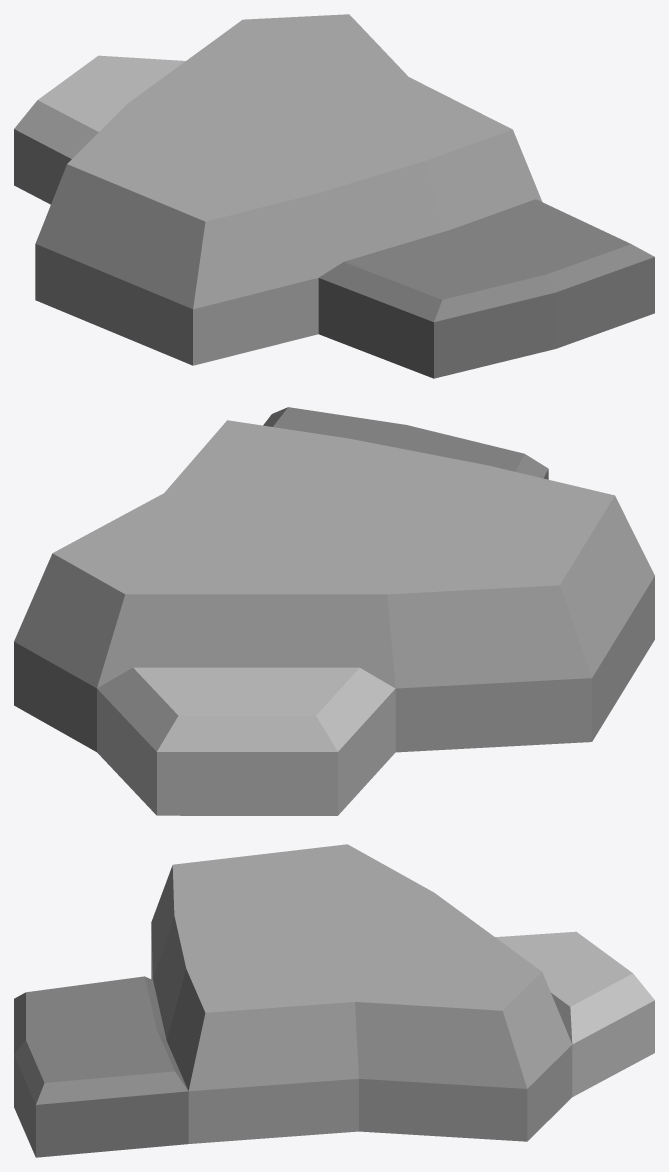
The model's file is rock-type4-03-grey.glb.
3 renders of one model, top to bottom at view 1: azimuth 30°, elevation 25°; view 2: azimuth 150°, elevation 25°; view 3: azimuth 270°, elevation 25°, orthographic. The views are drawn at different scales.
Parts seen in each view (by area): view 1: Rock_Type4_03_mesh; view 2: Rock_Type4_03_mesh; view 3: Rock_Type4_03_mesh.
Part boxes in pixels (<box>): Rock_Type4_03_mesh: <box>14,14,654,378</box>; Rock_Type4_03_mesh: <box>14,407,654,815</box>; Rock_Type4_03_mesh: <box>14,844,654,1157</box>.
Bounding box in the file's own units: 1.52 × 0.4176 × 2.
Materials: 1 (1 with a texture image).
